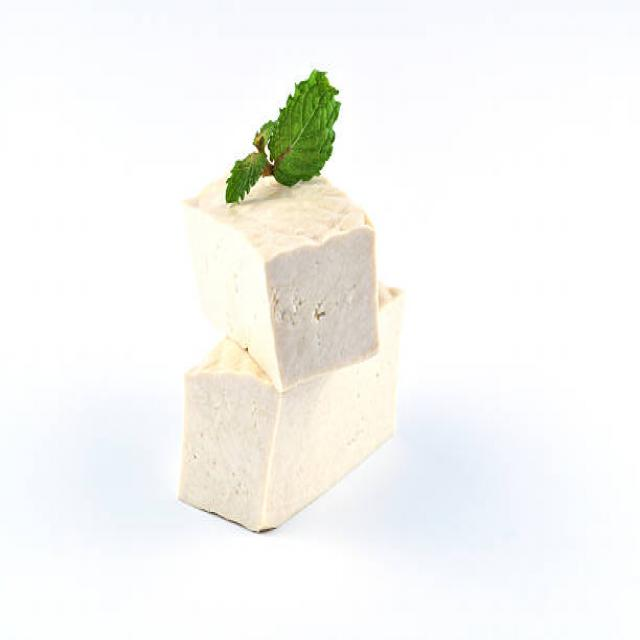Tofu Block: (248, 185, 386, 388), (176, 345, 293, 539)
